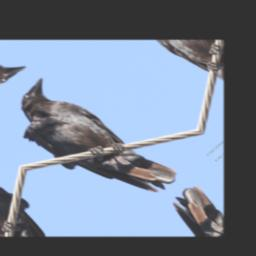Crow: (0, 74, 183, 217)
